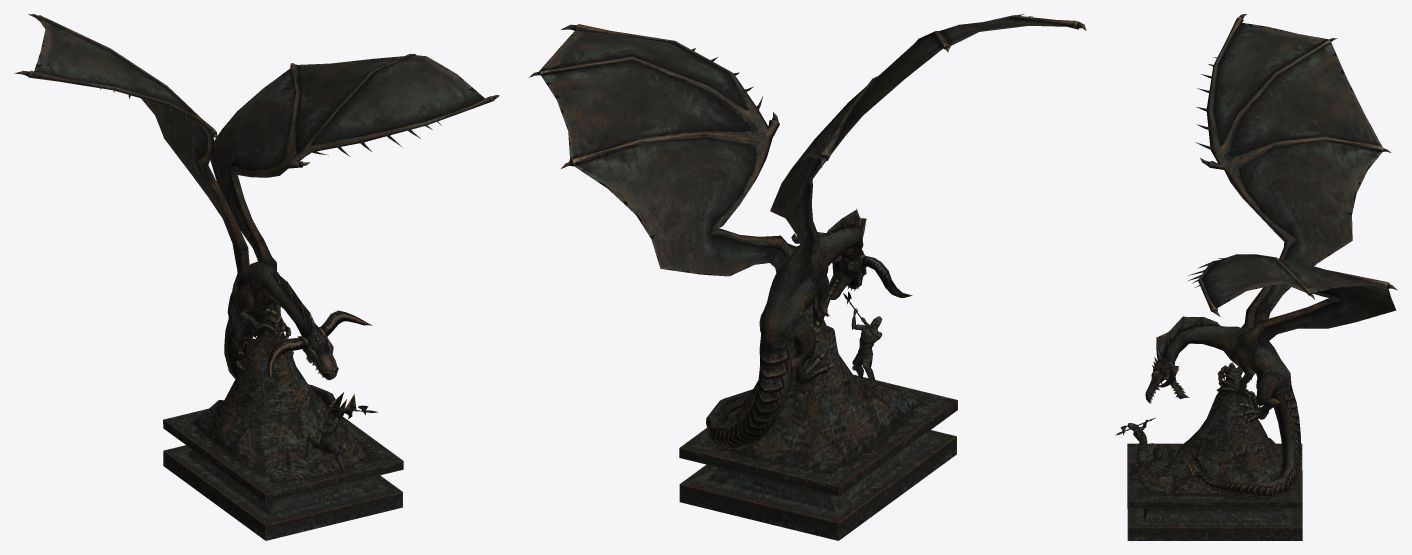
Rendered from blackDragonStatue.dae.
3 renders of one model, left to right at view 1: azimuth 30°, elevation 25°; view 2: azimuth 150°, elevation 25°; view 3: azimuth 270°, elevation 25°, orthographic. The views are drawn at different scales.
Visible parts, largest first — view 1: blackDragonStatue; view 2: blackDragonStatue; view 3: blackDragonStatue.
Boxes of the visible parts, x1,y1,x2,y2 form: blackDragonStatue: (14, 14, 499, 540); blackDragonStatue: (529, 14, 1086, 540); blackDragonStatue: (1115, 14, 1397, 540).
Size of the model in its own units: 10.12 by 9.61 by 6.16.
1 material, 1 textured.
